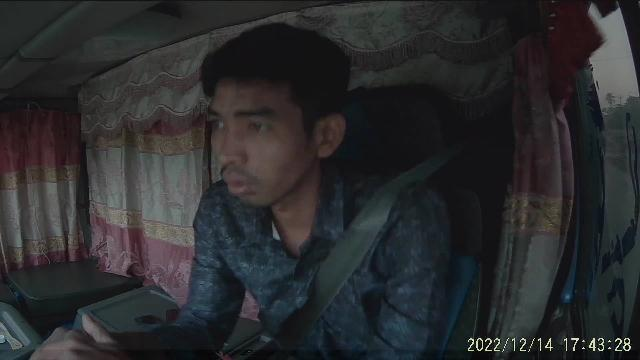SafeDriving: (243, 114, 276, 138)
Seatbelt: (307, 160, 448, 330)
